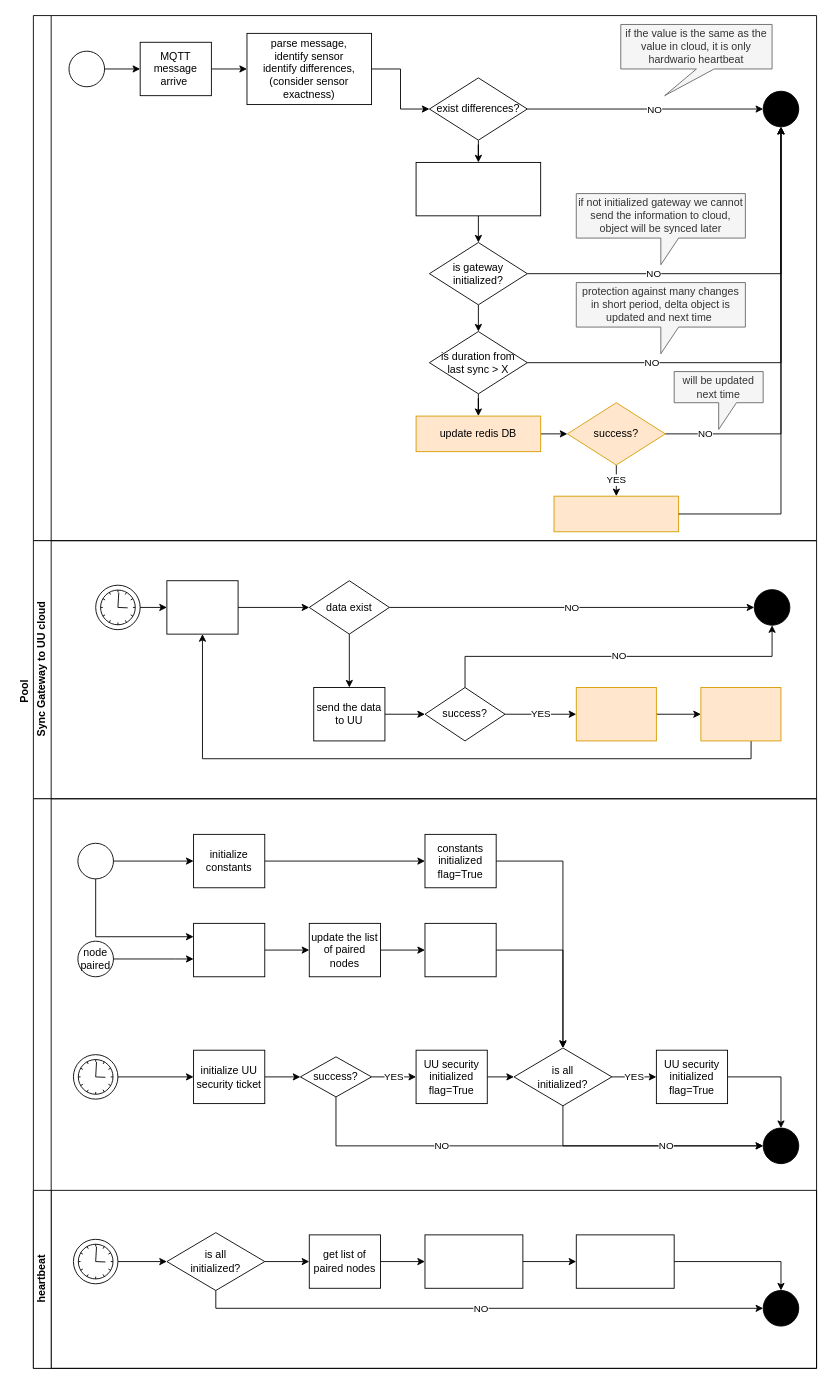
Image size: 832x1384. Some labels were removed from this diagram. The shapes that lost their labels are listed below. From the top down, each one's box as (x1, y1, x2, y2) in pixels, then its label:
(415, 162, 541, 216): enlarge delta object with the change details
(32, 15, 817, 541): ongoing update
(553, 495, 679, 532): clean delta object with change details
(166, 580, 238, 634): read X lines from redis
(575, 687, 656, 741): delete the sent data from redis
(700, 687, 781, 741): update object with information about sync
(77, 842, 113, 879): start
(193, 922, 265, 977): initialize nodes
(424, 922, 496, 977): nodes list flag=True
(73, 1054, 118, 1099): start and every 30 min
(32, 798, 817, 1368): config and maintenance
(73, 1238, 118, 1284): start and every X min
(424, 1234, 523, 1288): get synchronisation status and battery status for each
(575, 1234, 674, 1288): generate heartbeat message and send to UU cloud
